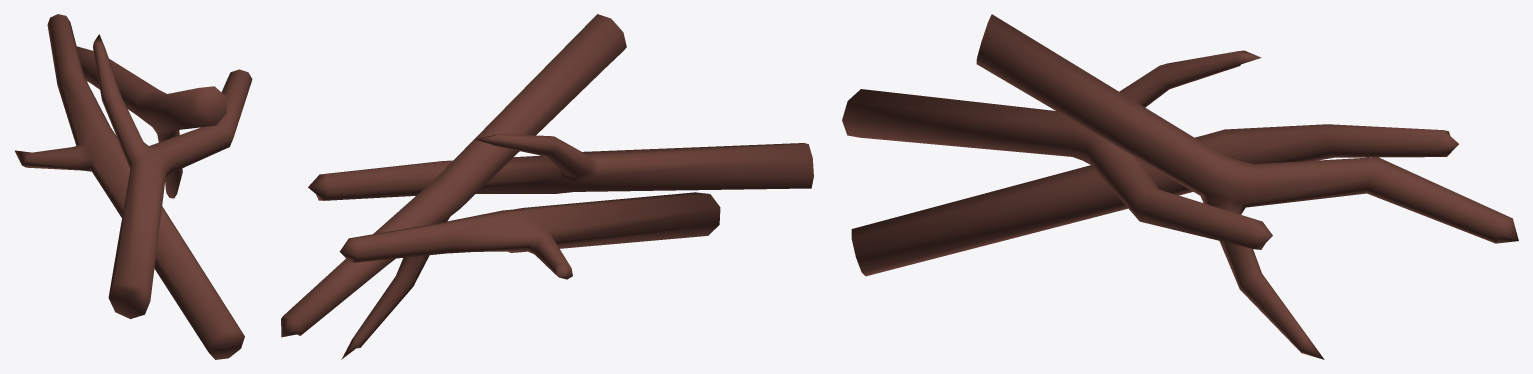
File: g_branch.fbx
3 renders of one model, left to right at view 1: azimuth 30°, elevation 25°; view 2: azimuth 150°, elevation 25°; view 3: azimuth 270°, elevation 25°, orthographic. The views are drawn at different scales.
Parts seen in each view (by area): view 1: g_branch; view 2: g_branch; view 3: g_branch.
Boxes of the visible parts, x1=… form: g_branch: x1=14, y1=14, x2=252, y2=359; g_branch: x1=281, y1=14, x2=813, y2=359; g_branch: x1=842, y1=14, x2=1518, y2=359.
Size of the model in its own units: 59.67 by 97.17 by 44.83.
